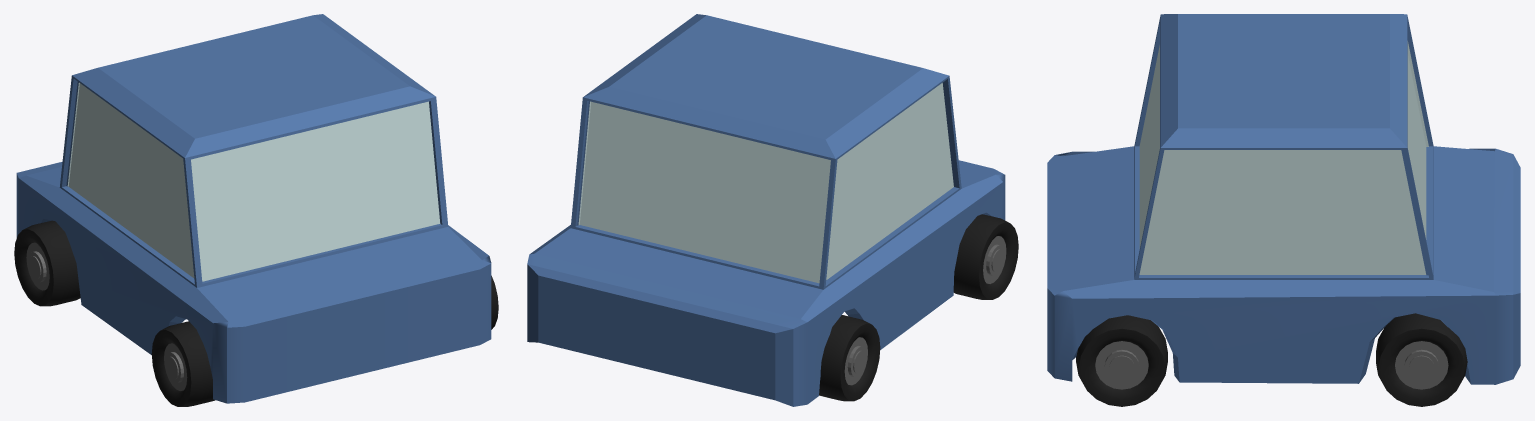
The model's file is car (1).fbx.
The picture shows the model from 3 angles, left to right: view 1: azimuth 30°, elevation 25°; view 2: azimuth 150°, elevation 25°; view 3: azimuth 270°, elevation 25°; orthographic projection. The views are drawn at different scales.
Parts seen in each view (by area): view 1: pCube2, pCylinder10, pCylinder9; view 2: pCube2, pCylinder9, pCylinder10; view 3: pCube2, pCylinder8, pCylinder7.
Part boxes in pixels (x1,y1,x2,y2): pCube2: [16, 14, 491, 403]; pCylinder10: [14, 220, 80, 306]; pCylinder9: [151, 321, 215, 406]; pCube2: [527, 14, 1005, 406]; pCylinder9: [953, 214, 1018, 299]; pCylinder10: [819, 315, 880, 401]; pCube2: [1047, 14, 1520, 384]; pCylinder8: [1376, 313, 1467, 406]; pCylinder7: [1076, 315, 1167, 406].
Size of the model in its own units: 3.62 by 2.66 by 4.43.
